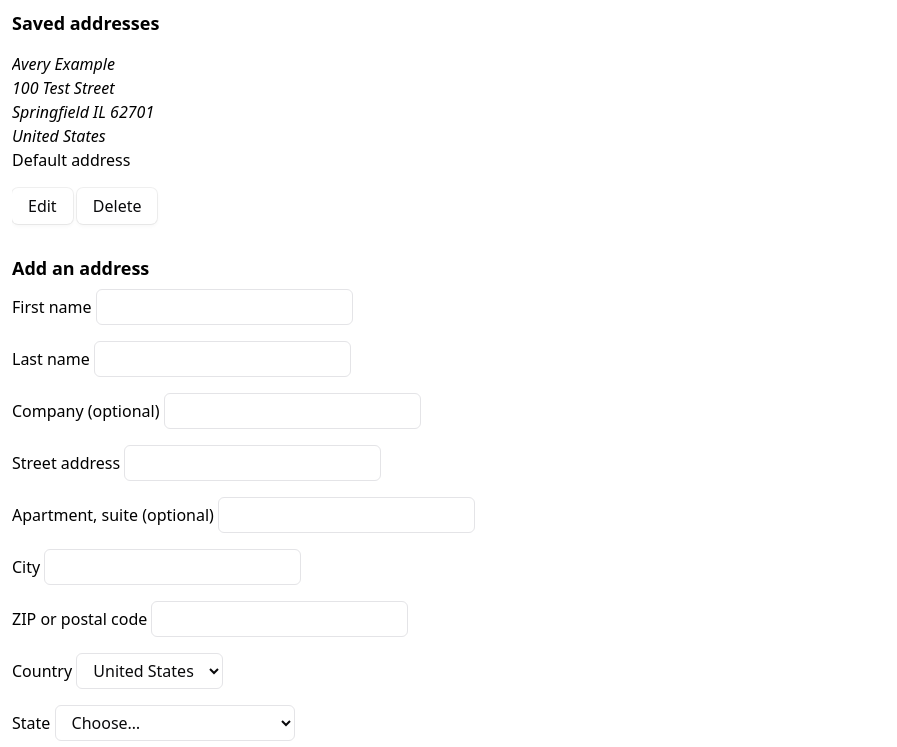
Scenario: the state or province › starts at the saved address's state
Click the button with aria-label "Edit 100 Test Street" at (42, 206), box [12, 188, 73, 224]
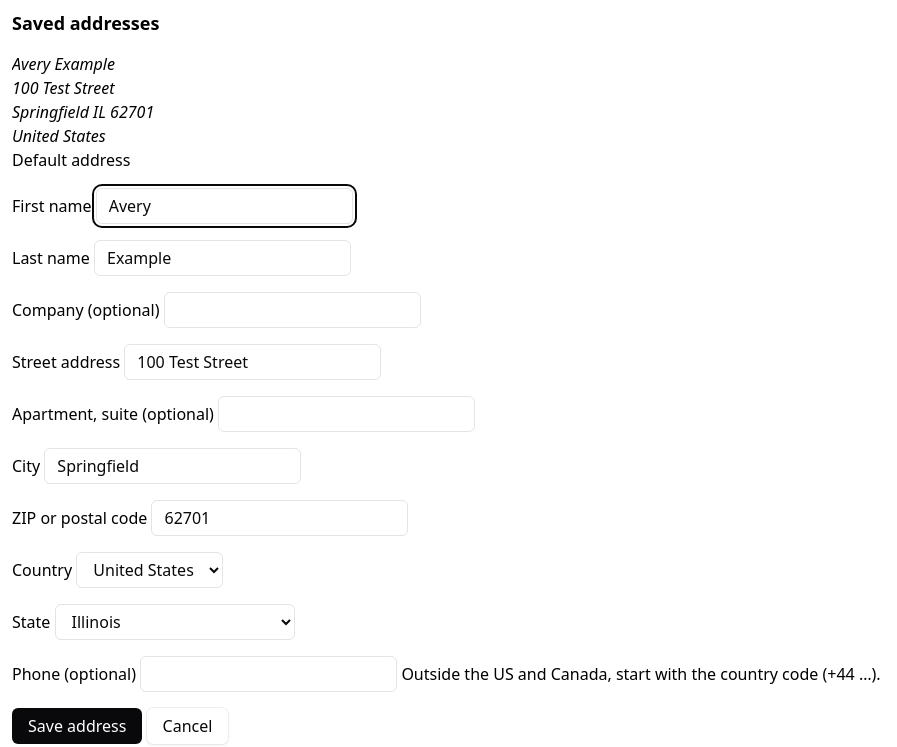
Expected: the dropdown labelled "State" shows "Illinois", [54, 604, 294, 640]
